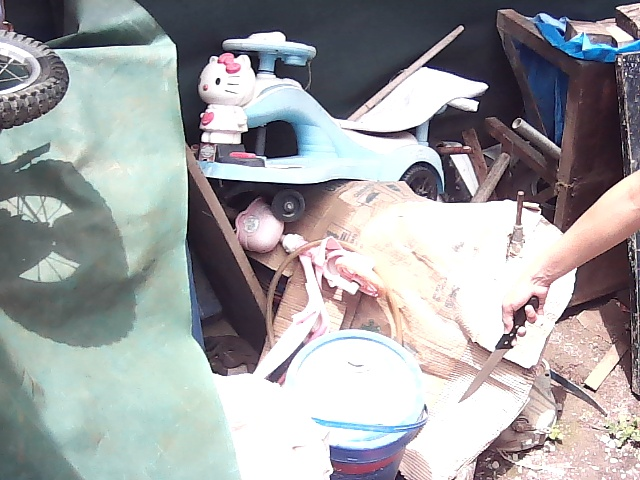cuchillo: (453, 313, 523, 407)
